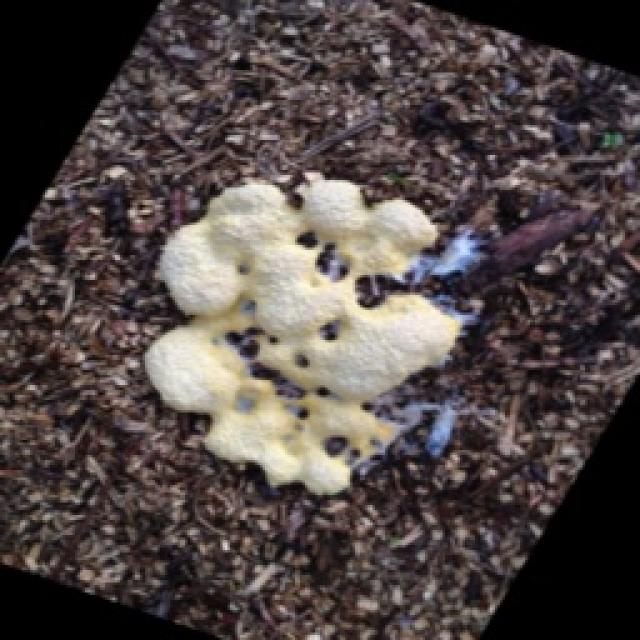Dog_vomit_slime_mold: (142, 159, 510, 506)
